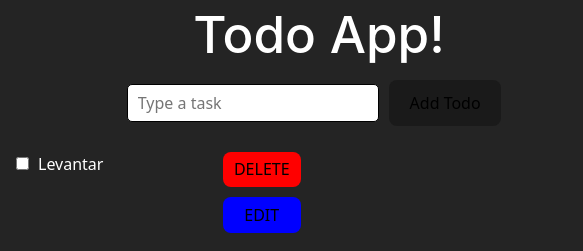
Scenario: testa se é possivel editar e deletar os elementos › testa se é possivel editar um elemento
The image size is (583, 251).
Expected: the text "Levantar" is shown, [38, 152, 104, 176]
Click the button "EDIT": [262, 215] box [223, 197, 300, 233]
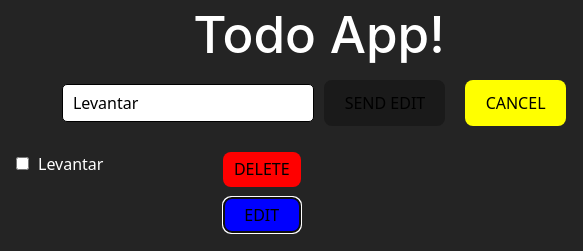
Replace the text in the field with "alterado": [188, 103] box [62, 84, 314, 122]
Then press Enter
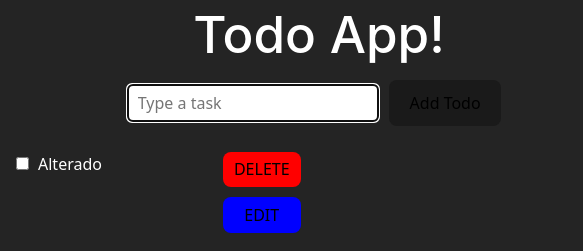
Now the text "Alterado" is shown, box [38, 152, 102, 176]
